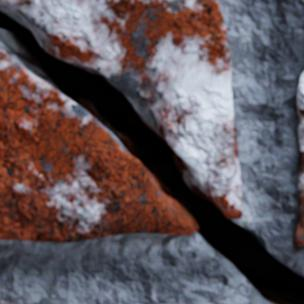brick: (292, 71, 303, 246)
broken_brick: (1, 0, 241, 218), (0, 48, 197, 241)
crack: (0, 0, 303, 303)
